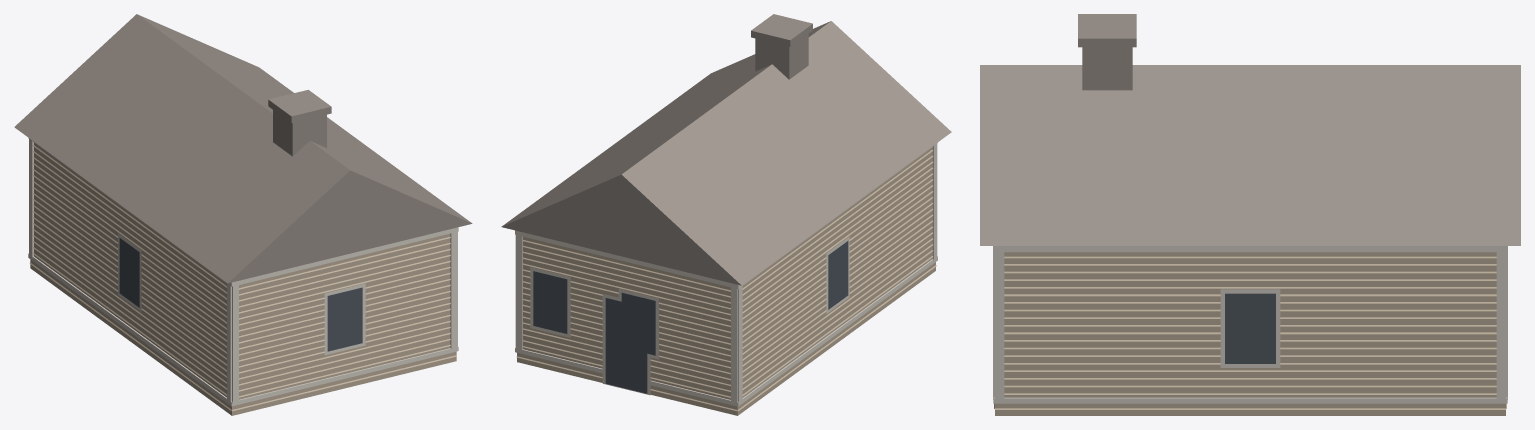
File: inf_bakery_lake__inferred_1835.glb
The picture shows the model from 3 angles, left to right: view 1: azimuth 30°, elevation 25°; view 2: azimuth 150°, elevation 25°; view 3: azimuth 270°, elevation 25°; orthographic projection. The views are drawn at different scales.
Parts seen in each view (by area): view 1: inf_bakery_lake__inferred_1835; view 2: inf_bakery_lake__inferred_1835; view 3: inf_bakery_lake__inferred_1835.
Boxes of the visible parts, x1=… form: inf_bakery_lake__inferred_1835: x1=14, y1=14, x2=472, y2=415; inf_bakery_lake__inferred_1835: x1=501, y1=14, x2=951, y2=415; inf_bakery_lake__inferred_1835: x1=980, y1=14, x2=1520, y2=415.
Bounding box in the file's own units: 5.99 × 5.9 × 9.03.
